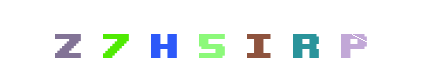5: (166, 0, 246, 80)
7: (116, 0, 196, 80)
H: (124, 0, 204, 80)
I: (183, 0, 263, 80)
P: (278, 0, 358, 80)
R: (265, 0, 345, 80)
Z: (75, 0, 155, 80)
